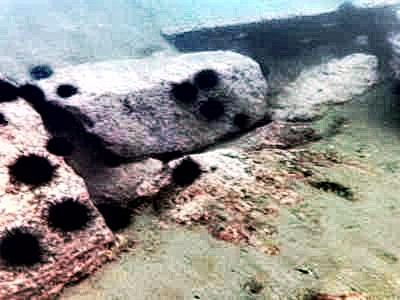urchin: (2, 225, 42, 273), (10, 152, 50, 187), (47, 196, 86, 231), (94, 199, 127, 229), (171, 155, 202, 185), (172, 80, 197, 102), (198, 100, 222, 118), (196, 68, 217, 87), (46, 138, 68, 156), (33, 65, 52, 80), (57, 85, 75, 96)
